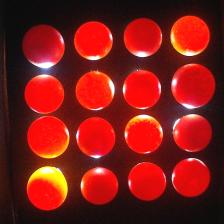fertile: (171, 64, 215, 108), (22, 24, 64, 68), (76, 117, 116, 158), (122, 17, 162, 57), (172, 113, 212, 152), (122, 70, 162, 109), (128, 162, 166, 201), (80, 166, 118, 204)
infertile: (26, 115, 70, 159), (26, 166, 68, 210), (170, 15, 210, 56), (75, 70, 115, 110), (24, 74, 64, 114), (74, 21, 113, 60), (124, 114, 162, 154), (172, 158, 210, 197)
